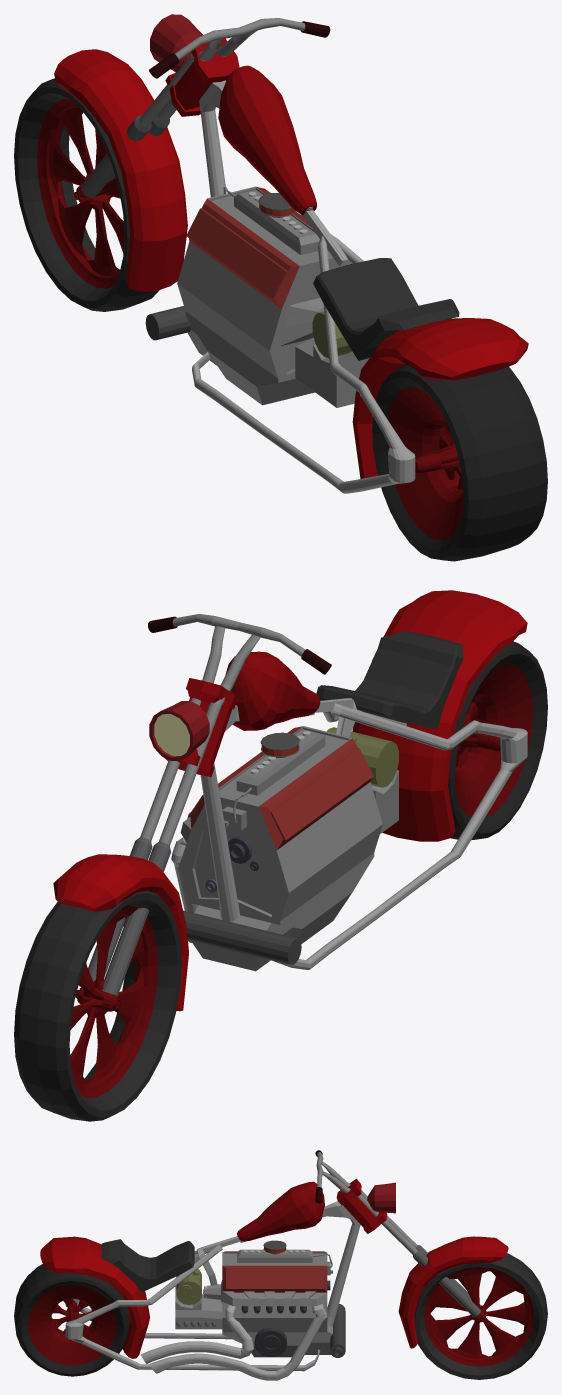
The model's file is v8-chopper.glb.
The picture shows the model from 3 angles, top to bottom: view 1: azimuth 30°, elevation 25°; view 2: azimuth 150°, elevation 25°; view 3: azimuth 270°, elevation 25°; orthographic projection. The views are drawn at different scales.
Parts seen in each view (by area): view 1: Body, Front steer, Rear wheel; view 2: Body, Front steer, Rear wheel; view 3: Body, Front steer, Rear wheel.
Part boxes in pixels (<box>): Body: <box>145,65,528,493</box>; Front steer: <box>14,14,330,311</box>; Rear wheel: <box>372,364,547,561</box>; Body: <box>171,590,527,971</box>; Front steer: <box>14,614,331,1121</box>; Rear wheel: <box>448,641,547,839</box>; Body: <box>40,1181,360,1380</box>; Front steer: <box>315,1150,547,1379</box>; Rear wheel: <box>14,1264,129,1376</box>.
Bounding box in the file's own units: 2.24 × 4.25 × 9.6.
